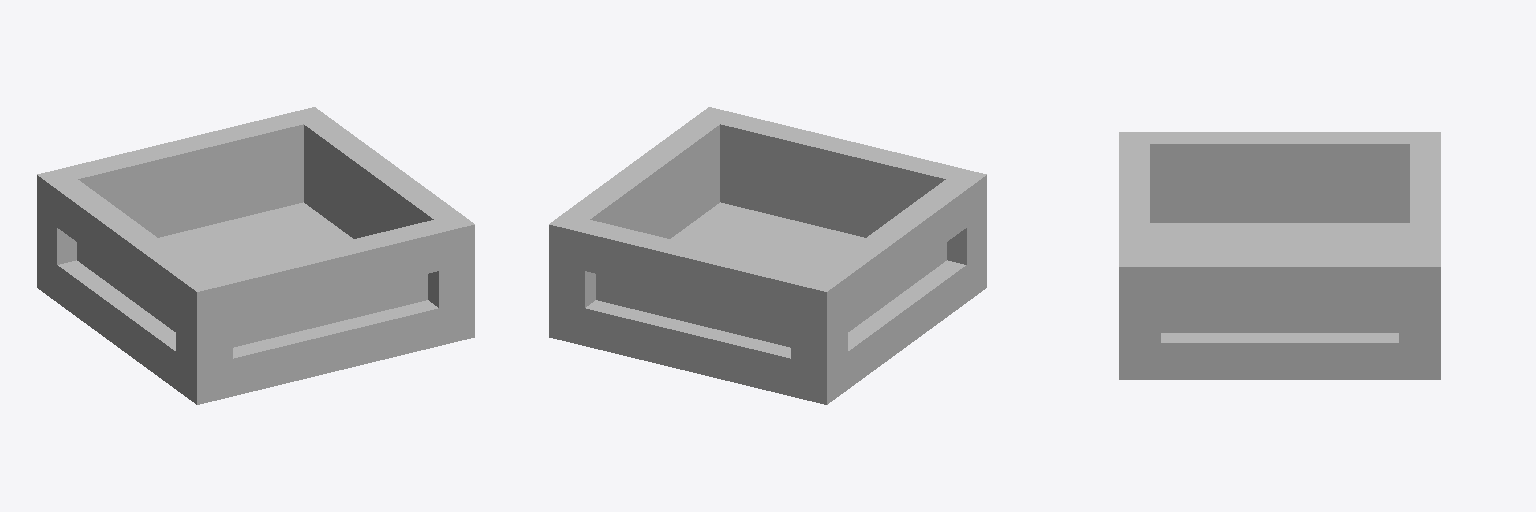
The model's file is Crate_mesh-sharedassets2.assets-122.obj.
3 views of the same model, side by side, from view 1: azimuth 30°, elevation 25°; view 2: azimuth 150°, elevation 25°; view 3: azimuth 270°, elevation 25° (orthographic).
Parts seen in each view (by area): view 1: Crate_mesh-sharedassets2.assets-122; view 2: Crate_mesh-sharedassets2.assets-122; view 3: Crate_mesh-sharedassets2.assets-122.
Part boxes in pixels (x1,y1,x2,y2): Crate_mesh-sharedassets2.assets-122: (37,107,474,404); Crate_mesh-sharedassets2.assets-122: (549,107,986,404); Crate_mesh-sharedassets2.assets-122: (1119,132,1440,379).
Bounding box in the file's own units: 1 × 0.3882 × 1.